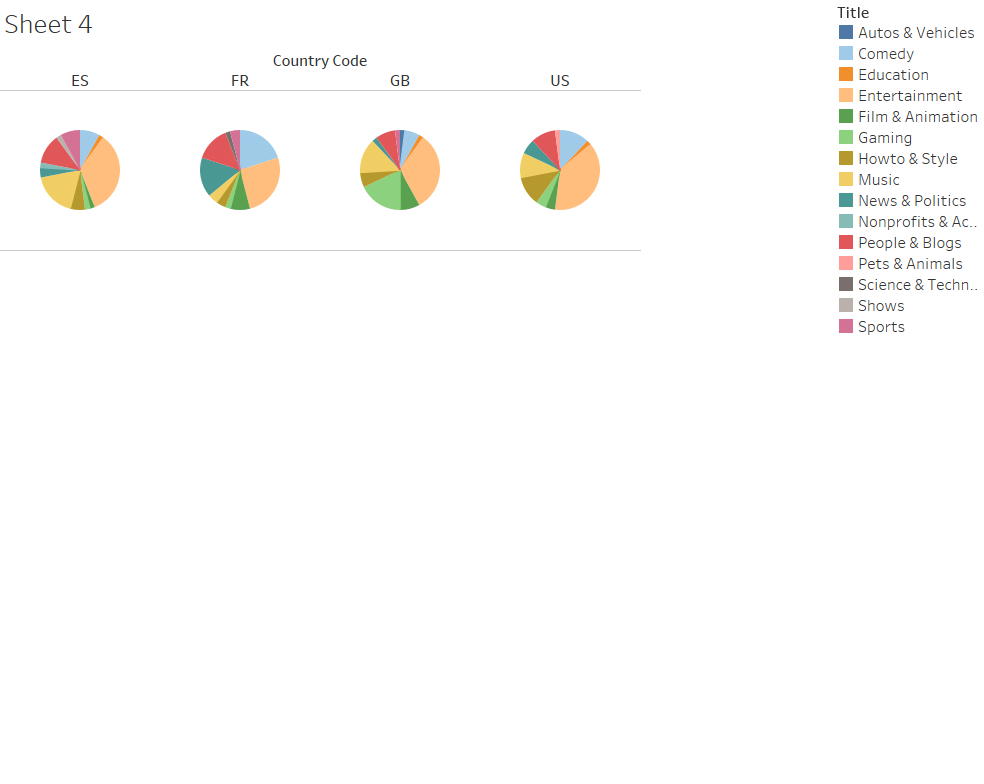

What the dashboard file says about the page in this screenshot:
{"tool":"tableau","page":{"name":"Dashboard 1","canvas":[1000,800],"ordinal":0},"visuals":[{"type":"worksheet","title":"Sheet 4","mark":"Pie","cols":["CountryCode"],"box":[0,0,840,800]},{"type":"legend","title":"Sheet 4","param":"[federated.05c3oit1kv6xeo1adsr2y1hh8ljr].[none:title:nk]","box":[840,0,160,349]}]}

Visuals, with their boxes in screenshot pixels (x1, y1, x2, y2), scaled from the page's 1000x800 canvas onto the 984x784 screenshot:
"Sheet 4" worksheet (Pie marks): region(0, 0, 827, 783)
"Sheet 4" legend: region(827, 0, 983, 342)
